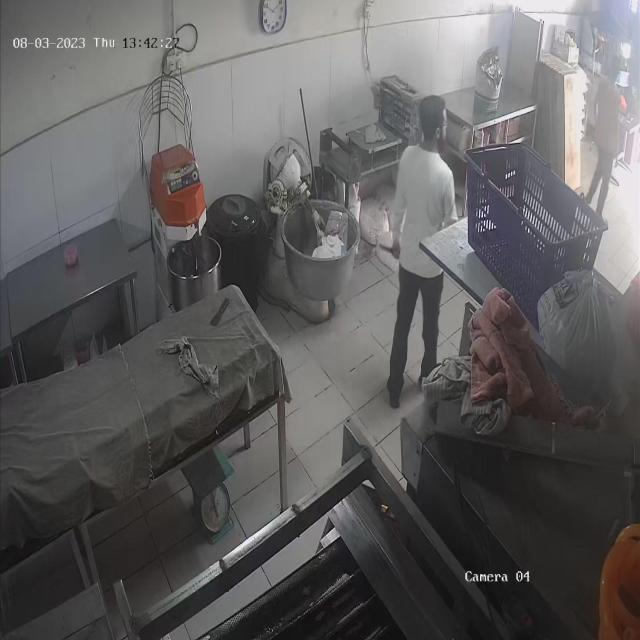Knife: (375, 234, 402, 262)
